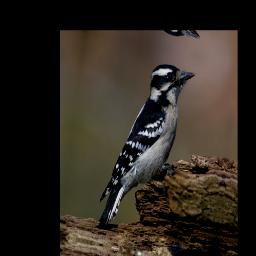Woodpecker: (96, 50, 197, 248)
